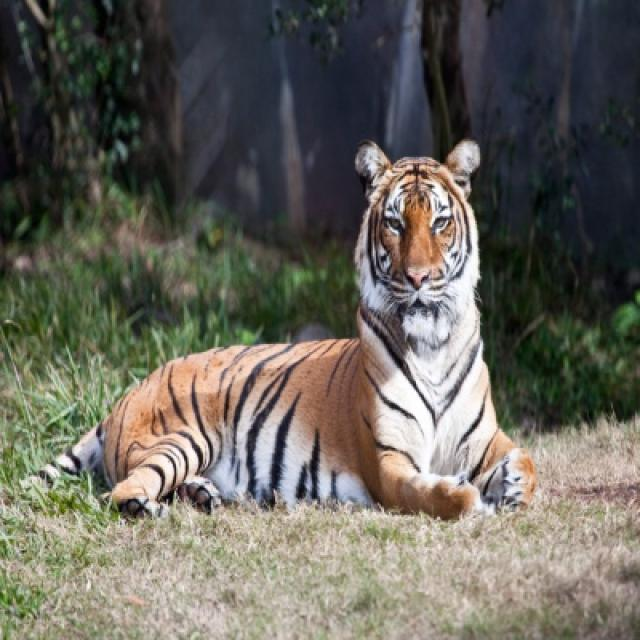Tiger: (50, 136, 540, 513)
